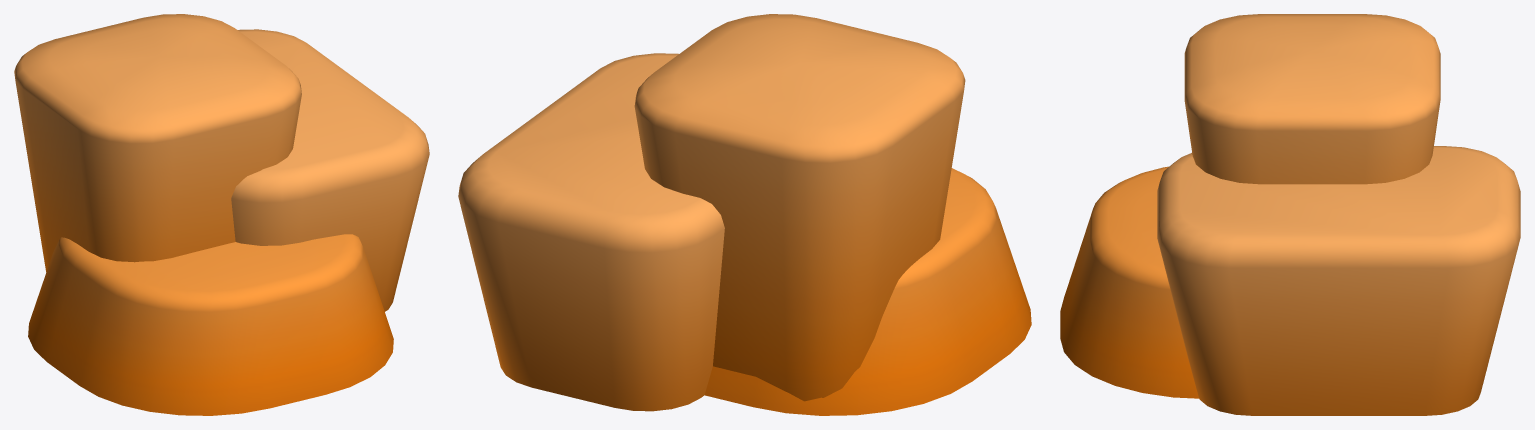
Rendered from Rock_A_04.fbx.
The picture shows the model from 3 angles, left to right: view 1: azimuth 30°, elevation 25°; view 2: azimuth 150°, elevation 25°; view 3: azimuth 270°, elevation 25°; orthographic projection. The views are drawn at different scales.
Parts seen in each view (by area): view 1: Rock_A_04; view 2: Rock_A_04; view 3: Rock_A_04.
Part boxes in pixels (bbox=[...]): Rock_A_04: bbox=[14, 14, 429, 415]; Rock_A_04: bbox=[458, 14, 1031, 415]; Rock_A_04: bbox=[1060, 14, 1520, 415].
Size of the model in its own units: 175 by 123 by 192.
